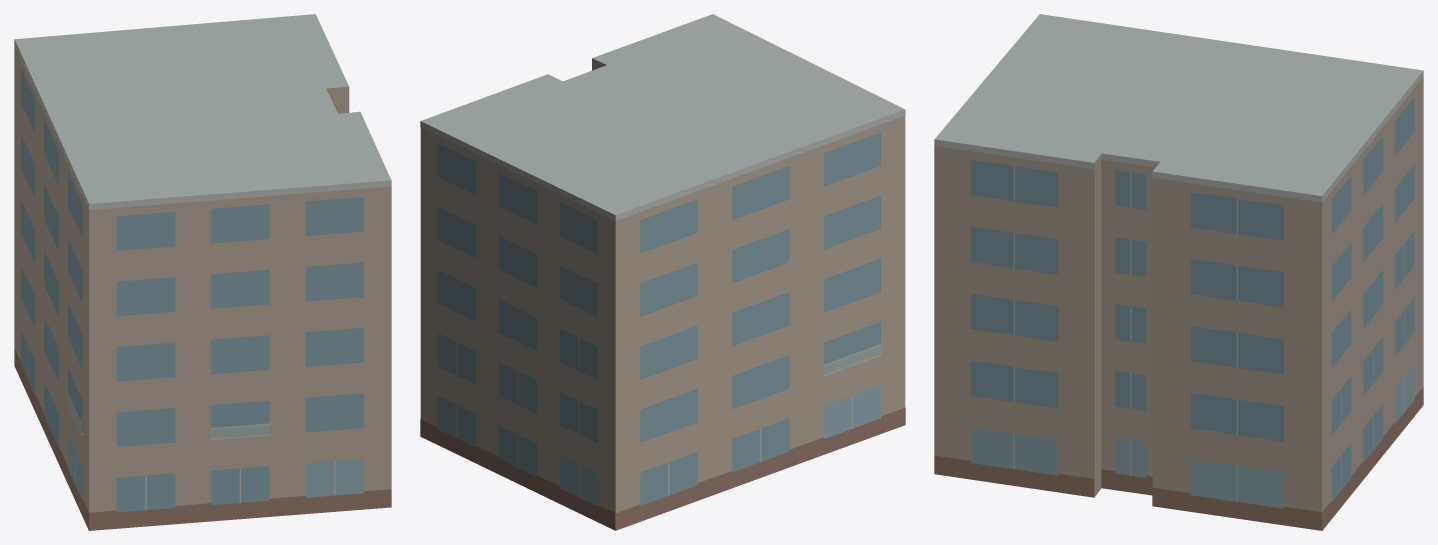
Rendered from survey-upis-32711170.glb.
The picture shows the model from 3 angles, left to right: view 1: azimuth 30°, elevation 25°; view 2: azimuth 150°, elevation 25°; view 3: azimuth 270°, elevation 25°; orthographic projection. The views are drawn at different scales.
Visible parts, largest first — view 1: survey-upis-32711170.tmp; view 2: survey-upis-32711170.tmp; view 3: survey-upis-32711170.tmp.
Part boxes in pixels (bbox=[...]): survey-upis-32711170.tmp: bbox=[14, 14, 391, 530]; survey-upis-32711170.tmp: bbox=[420, 14, 905, 530]; survey-upis-32711170.tmp: bbox=[934, 14, 1423, 530].
Size of the model in its own units: 15.24 by 13.05 by 17.3.
